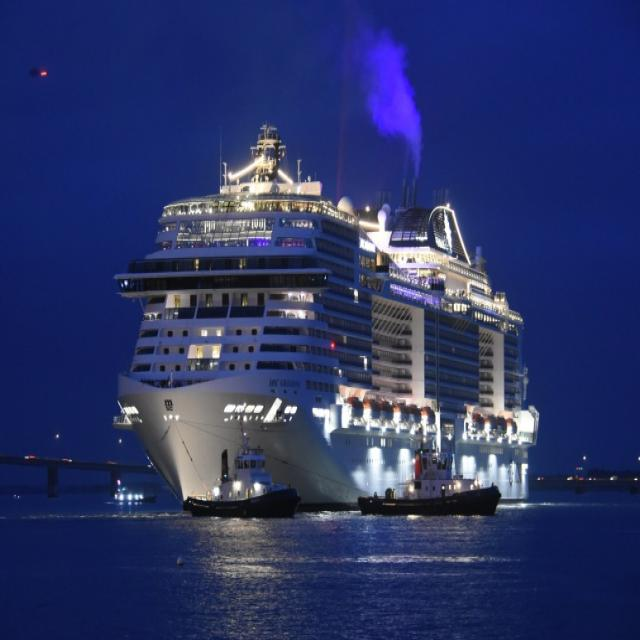cruises: (110, 121, 559, 527)
